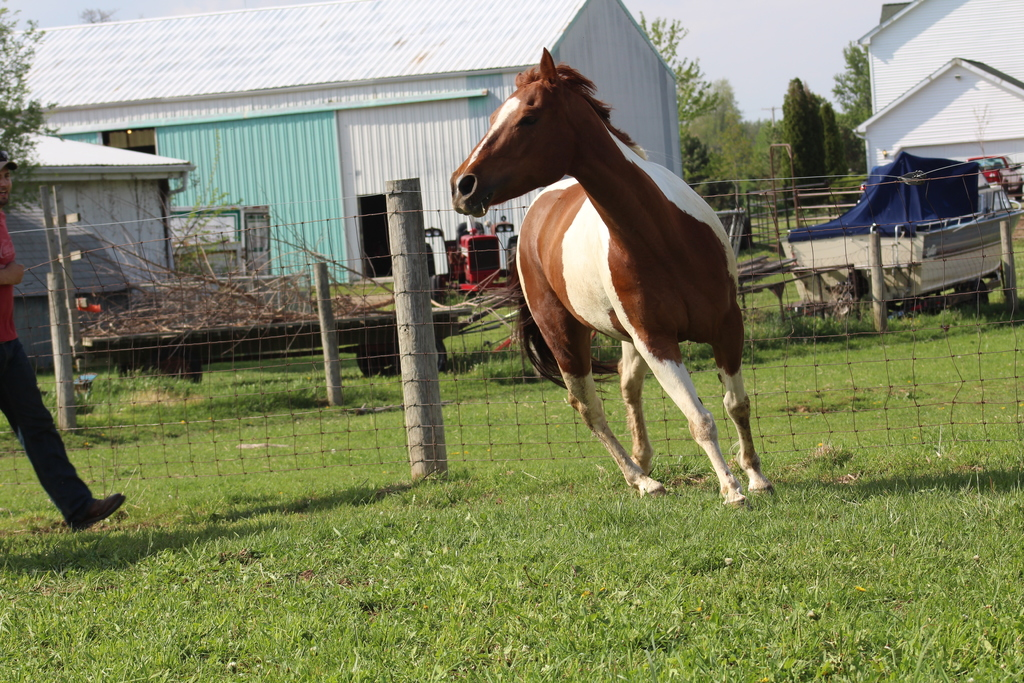horse: (449, 45, 776, 509)
